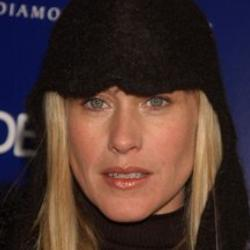face: (14, 41, 234, 235)
